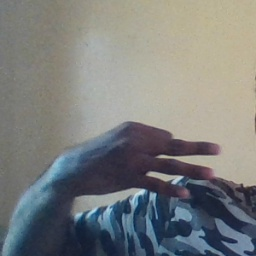K: (70, 121, 224, 206)
